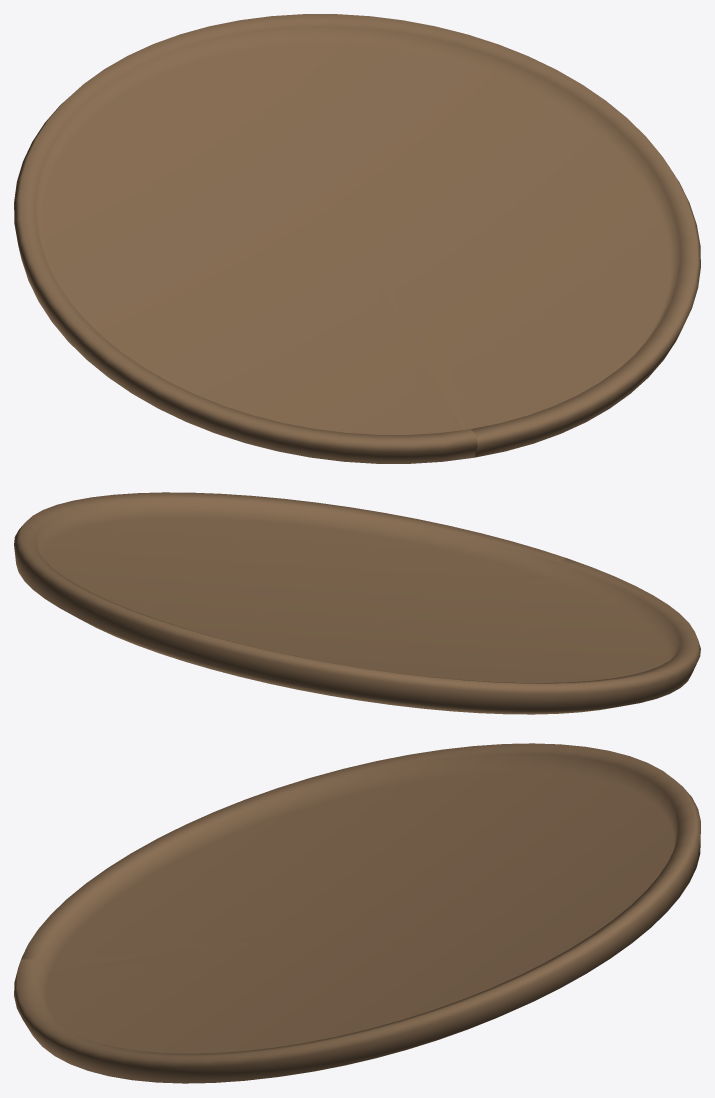
Rendered from pub-tray-bare.glb.
3 renders of one model, top to bottom at view 1: azimuth 30°, elevation 25°; view 2: azimuth 150°, elevation 25°; view 3: azimuth 270°, elevation 25°, orthographic. The views are drawn at different scales.
Visible parts, largest first — view 1: pub_service_tray_bare; view 2: pub_service_tray_bare; view 3: pub_service_tray_bare.
Part boxes in pixels (x1,y1,x2,y2): pub_service_tray_bare: (14, 14, 700, 463); pub_service_tray_bare: (14, 492, 700, 714); pub_service_tray_bare: (14, 743, 700, 1083).
Size of the model in its own units: 0.3933 by 0.1163 by 0.3811.
